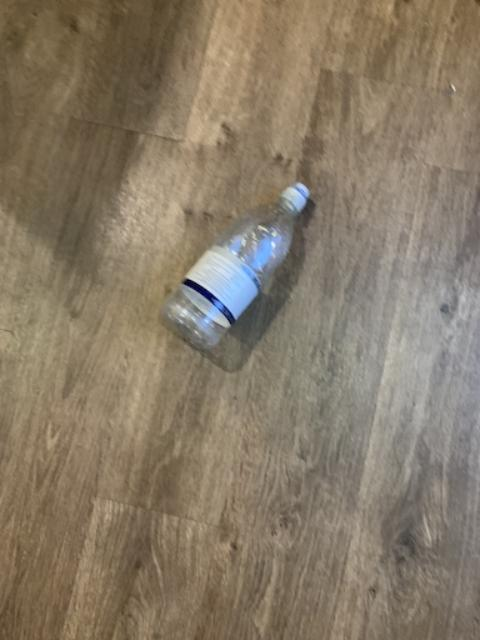plastic: (160, 181, 308, 348)
